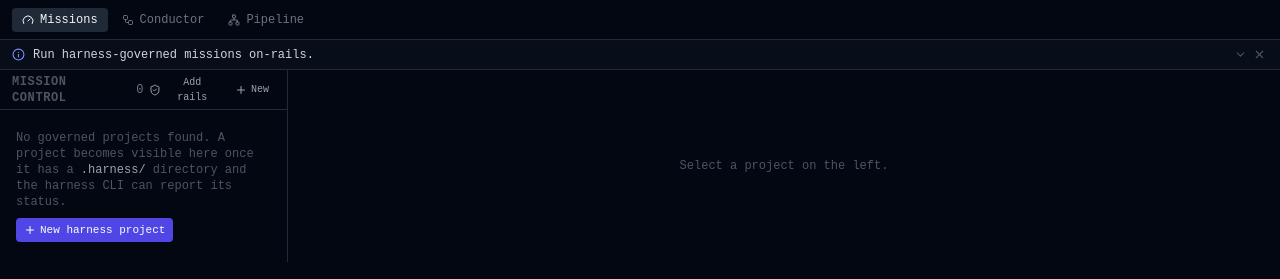
Test: RunsTab — mode switch › switches back to the Missions surface
expect the text "No governed projects found" is shown: met, box left=16, top=131, right=254, bottom=177
Click the button "Conductor".
click(163, 20)  # box left=112, top=8, right=214, bottom=32
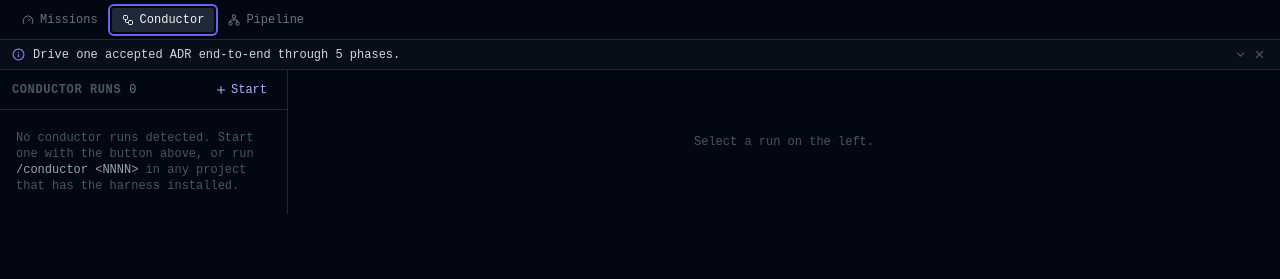
expect the text "No conductor runs detected" is shown: met, box left=16, top=131, right=254, bottom=161
Click the button "Missions".
click(60, 20)  # box left=12, top=8, right=108, bottom=32
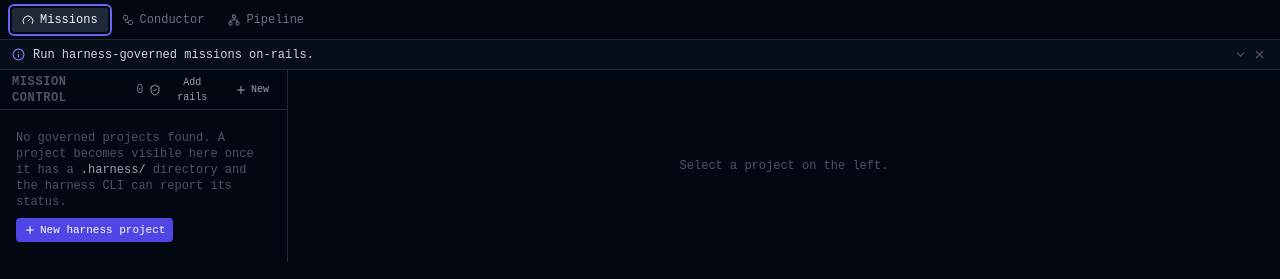
expect the text "No governed projects found" is shown: met, box left=16, top=131, right=254, bottom=177
